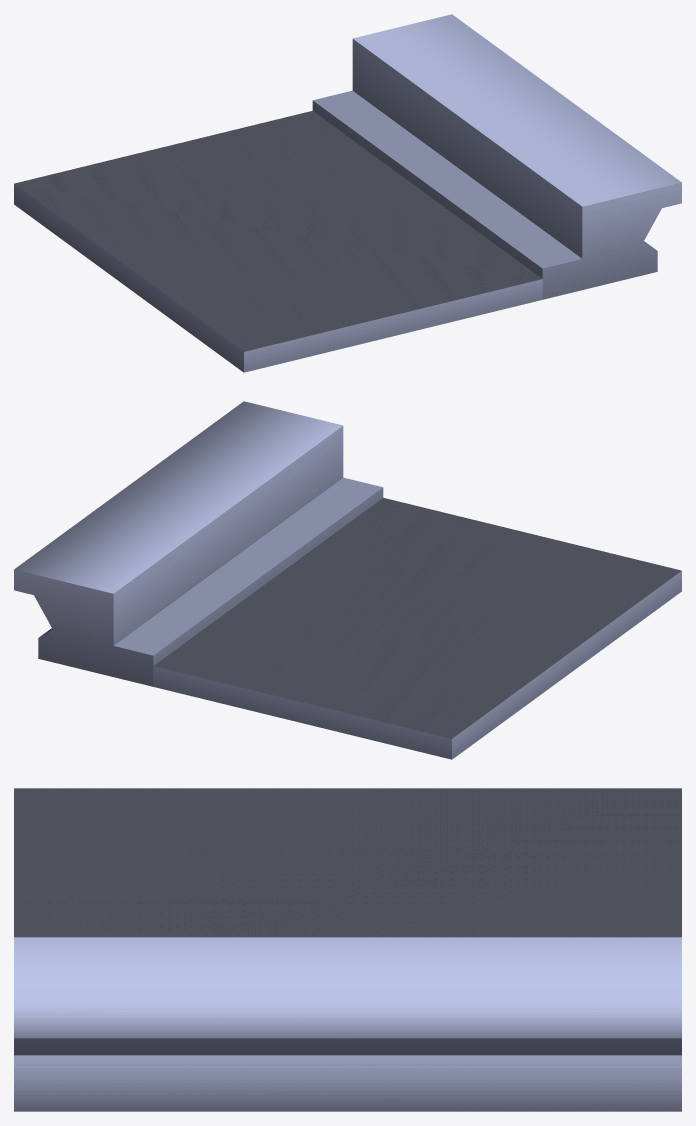
File: roof-flat-side.glb
The picture shows the model from 3 angles, top to bottom: view 1: azimuth 30°, elevation 25°; view 2: azimuth 150°, elevation 25°; view 3: azimuth 270°, elevation 25°; orthographic projection. The views are drawn at different scales.
Visible parts, largest first — view 1: roof-flat-side; view 2: roof-flat-side; view 3: roof-flat-side.
Boxes of the visible parts, left/top/right/bottom form: roof-flat-side: left=14, top=14, right=681, bottom=372; roof-flat-side: left=14, top=401, right=681, bottom=759; roof-flat-side: left=14, top=788, right=681, bottom=1111.
Bounding box in the file's own units: 2.2 × 0.4 × 2.
1 material, 1 textured.
